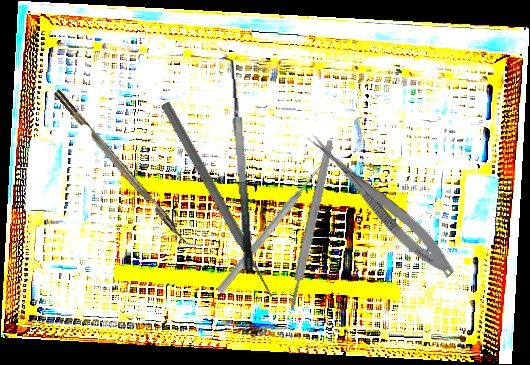Chopper: (53, 82, 204, 257)
Micro Scissor: (298, 128, 462, 283)
Pusher: (158, 100, 278, 300), (215, 159, 328, 296)
Scalpel Handle: (286, 139, 336, 311)
Spatula Surgical: (214, 56, 256, 274)
